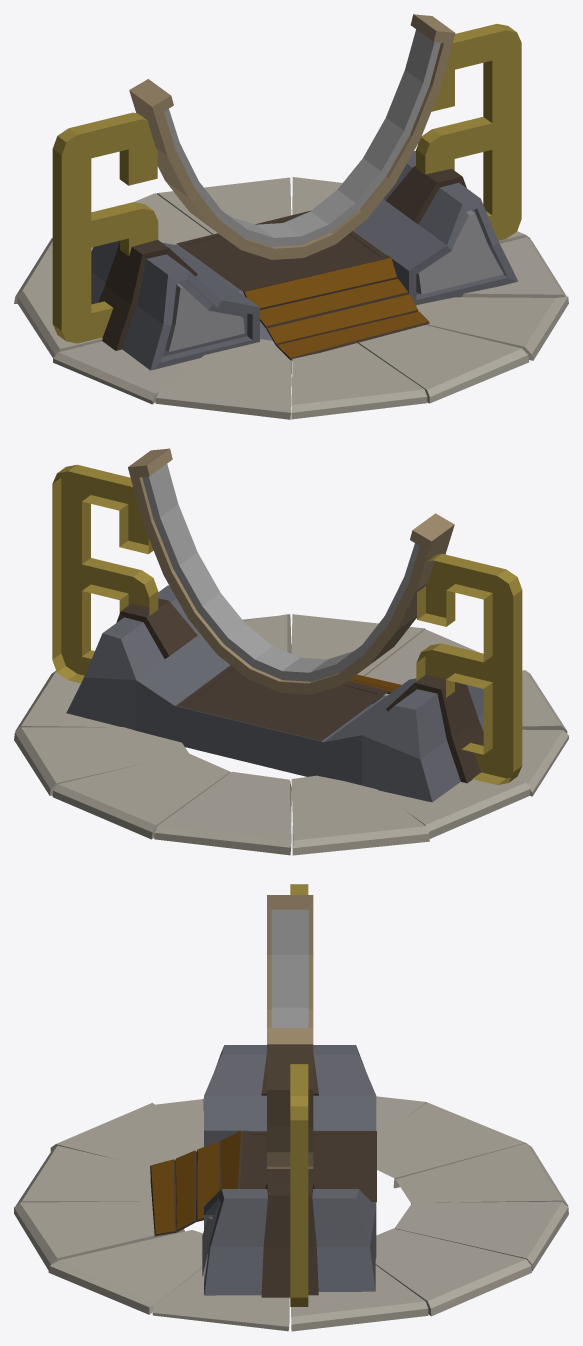
3 renders of one model, top to bottom at view 1: azimuth 30°, elevation 25°; view 2: azimuth 150°, elevation 25°; view 3: azimuth 270°, elevation 25°, orthographic.
Visible parts, largest first — view 1: Circle.005, Plane.005; view 2: Circle.005, Plane.005; view 3: Circle.005, Plane.005.
Part boxes in pixels (bbox=[...]): Circle.005: bbox=[14, 14, 568, 419]; Plane.005: bbox=[52, 24, 521, 343]; Circle.005: bbox=[14, 448, 568, 855]; Plane.005: bbox=[52, 464, 522, 784]; Circle.005: bbox=[14, 895, 568, 1331]; Plane.005: bbox=[290, 884, 308, 1306].
Size of the model in its own units: 163 by 81.46 by 162.
